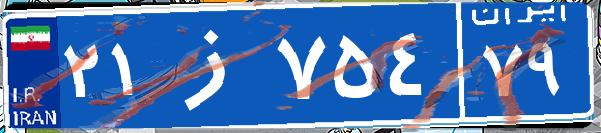1: (110, 28, 158, 105)
2: (57, 26, 110, 107)
4: (385, 28, 445, 110)
5: (330, 28, 385, 110)
7: (273, 28, 330, 110), (475, 38, 525, 113)
9: (525, 38, 570, 115)
ز: (158, 15, 273, 115)
